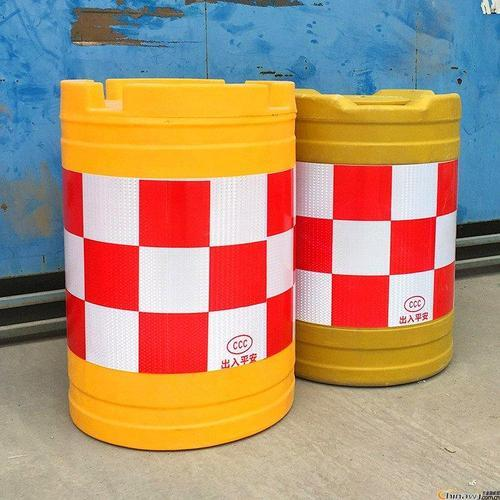sign: (49, 66, 302, 455), (293, 78, 474, 390)
